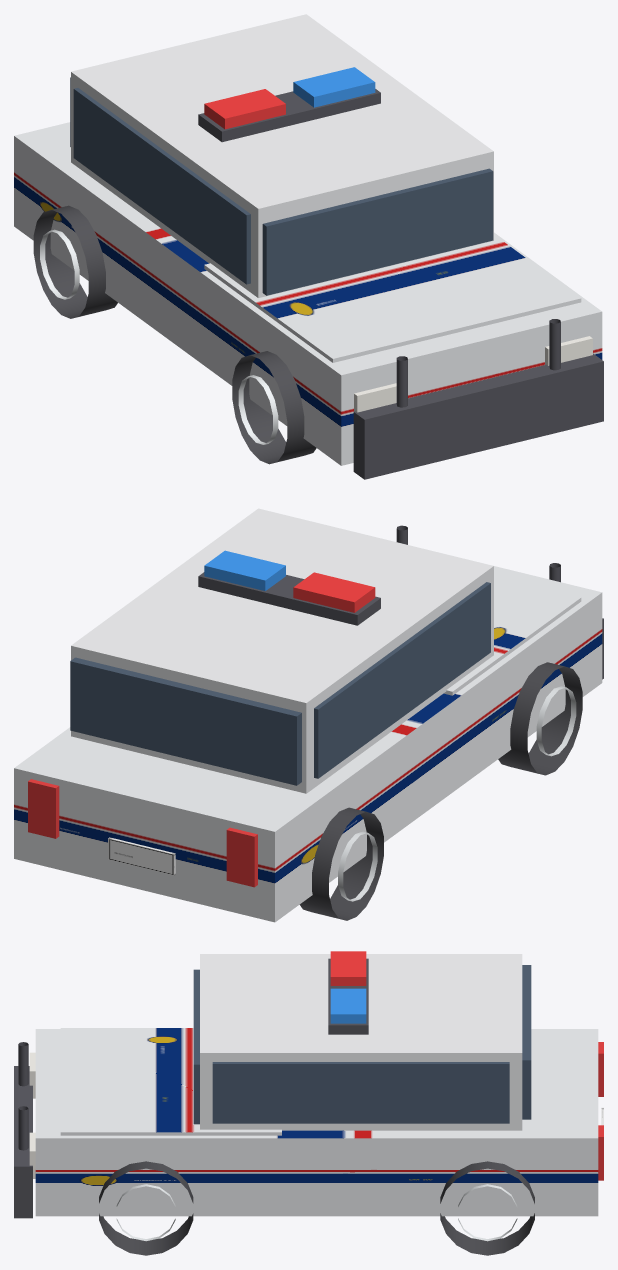
File: mumbai_police_suv.glb
3 renders of one model, top to bottom at view 1: azimuth 30°, elevation 25°; view 2: azimuth 150°, elevation 25°; view 3: azimuth 270°, elevation 25°, orthographic. The views are drawn at different scales.
Visible parts, largest first — view 1: Police_Chassis, Police_Cabin, Police_Windows, Police_Bullbar, Police_Wheels, Police_Lightbar_Frame, Police_Strobe_Blue, Police_Strobe_Red, Police_Alloys, Police_Headlights; view 2: Police_Chassis, Police_Cabin, Police_Windows, Police_Wheels, Police_Taillights, Police_Lightbar_Frame, Police_Strobe_Red, Police_Strobe_Blue, Police_Alloys, Police_Plates, Police_Bullbar; view 3: Police_Chassis, Police_Cabin, Police_Windows, Police_Wheels, Police_Bullbar, Police_Strobe_Blue, Police_Strobe_Red, Police_Lightbar_Frame, Police_Alloys, Police_Taillights, Police_Headlights.
Boxes of the visible parts, x1,y1,x2,y2 form: Police_Chassis: (14, 122, 602, 465); Police_Cabin: (71, 14, 493, 297); Police_Windows: (70, 77, 493, 295); Police_Bullbar: (353, 319, 603, 479); Police_Wheels: (33, 205, 316, 464); Police_Lightbar_Frame: (198, 89, 380, 142); Police_Strobe_Blue: (293, 67, 375, 107); Police_Strobe_Red: (204, 89, 285, 129); Police_Alloys: (40, 229, 278, 444); Police_Headlights: (354, 336, 592, 412); Police_Chassis: (14, 566, 602, 922); Police_Cabin: (71, 508, 493, 793); Police_Windows: (70, 582, 490, 785); Police_Wheels: (299, 662, 582, 920); Police_Taillights: (28, 779, 257, 887); Police_Lightbar_Frame: (198, 572, 380, 625); Police_Strobe_Red: (293, 572, 375, 612); Police_Strobe_Blue: (204, 550, 285, 590); Police_Alloys: (338, 686, 576, 901); Police_Plates: (108, 837, 175, 875); Police_Bullbar: (396, 525, 603, 679); Police_Chassis: (35, 1028, 598, 1216); Police_Cabin: (200, 954, 522, 1130); Police_Windows: (193, 965, 531, 1124); Police_Wheels: (99, 1161, 534, 1255); Police_Bullbar: (14, 1042, 32, 1218); Police_Strobe_Blue: (330, 988, 366, 1023); Police_Strobe_Red: (330, 951, 366, 985); Police_Lightbar_Frame: (328, 958, 368, 1034); Police_Alloys: (116, 1184, 517, 1241); Police_Taillights: (598, 1042, 603, 1180); Police_Headlights: (29, 1052, 35, 1178).
Bounding box in the file's own units: 2.38 × 1.84 × 4.66.
Materials: 11 (2 with a texture image).
